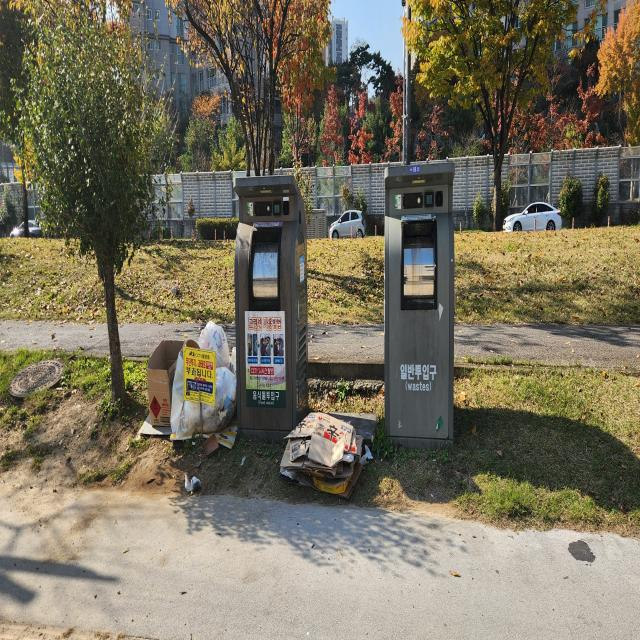CleanNet: (378, 154, 465, 462), (226, 162, 314, 442)
General Waste: (144, 314, 235, 447), (281, 408, 371, 499)
